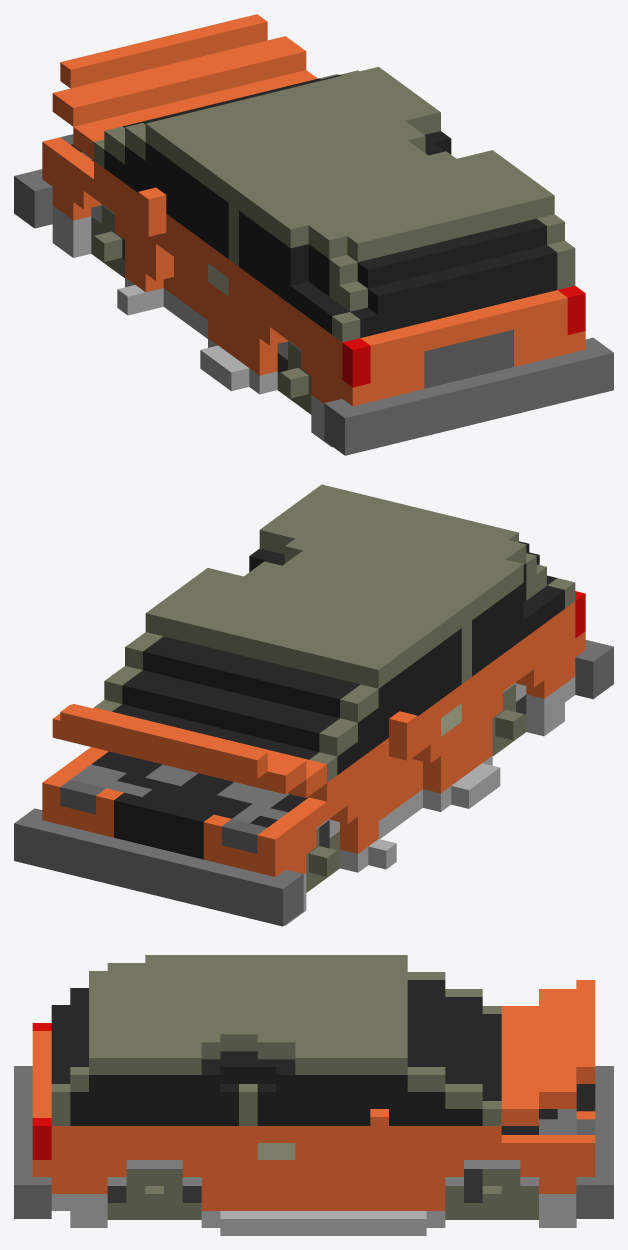
The model's file is All-26-CAR.obj.
The picture shows the model from 3 angles, top to bottom: view 1: azimuth 30°, elevation 25°; view 2: azimuth 150°, elevation 25°; view 3: azimuth 270°, elevation 25°; orthographic projection. The views are drawn at different scales.
Visible parts, largest first — view 1: CAR; view 2: CAR; view 3: CAR.
Boxes of the visible parts, x1,y1,x2,y2 form: CAR: (14,14,613,455); CAR: (14,484,613,926); CAR: (14,955,613,1235).
Size of the model in its own units: 1.5 by 1 by 3.2.
1 material, 1 textured.
